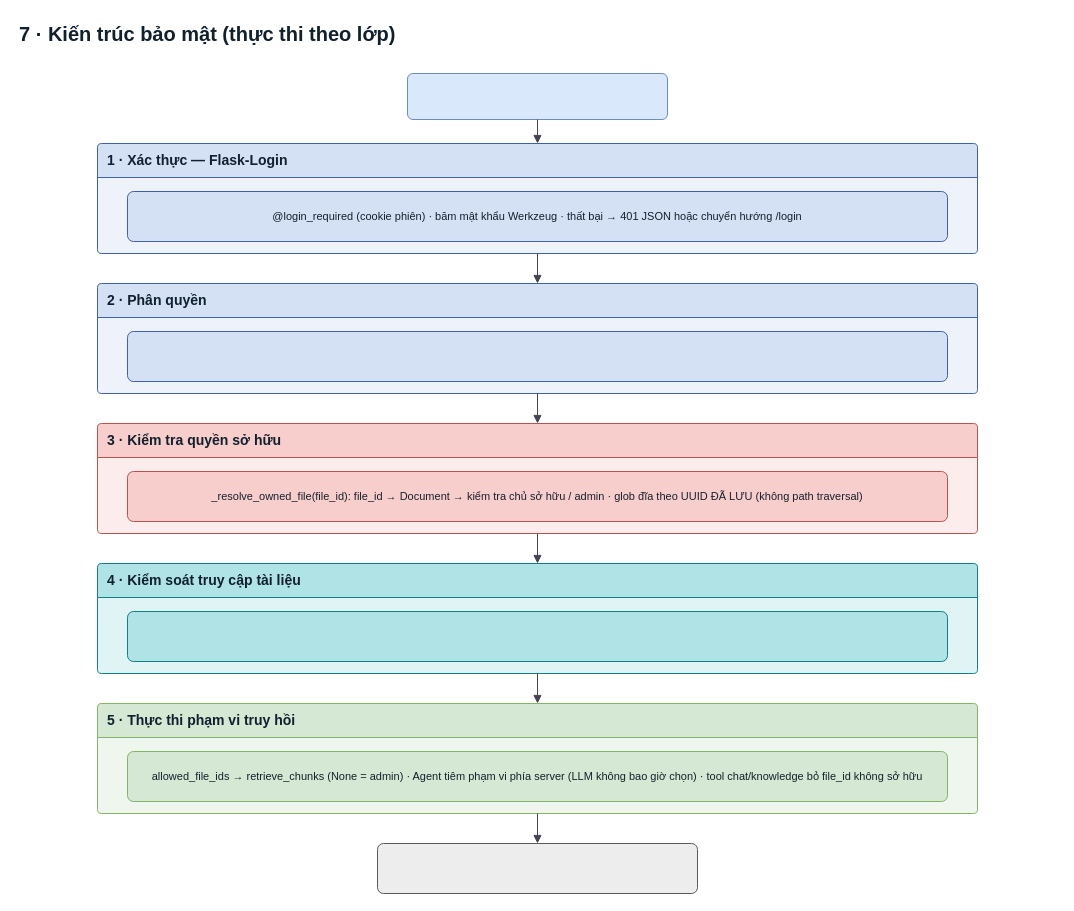
The diagram is 1074 pixels wide and 911 high, and some of its shapes have lost their labels. The centre of each missing label's shape, as x and y in pixels:
"danh sách + artifact giới hạn theo current_user · admin thấy tất cả" goes at point 537,636.
"role = admin | user · @admin_required cho /admin/* và API quản trị" goes at point 537,356.
"Truy cập dịch vụ / dữ liệu" goes at point 537,868.
"Yêu cầu HTTP đến" goes at point 537,96.
